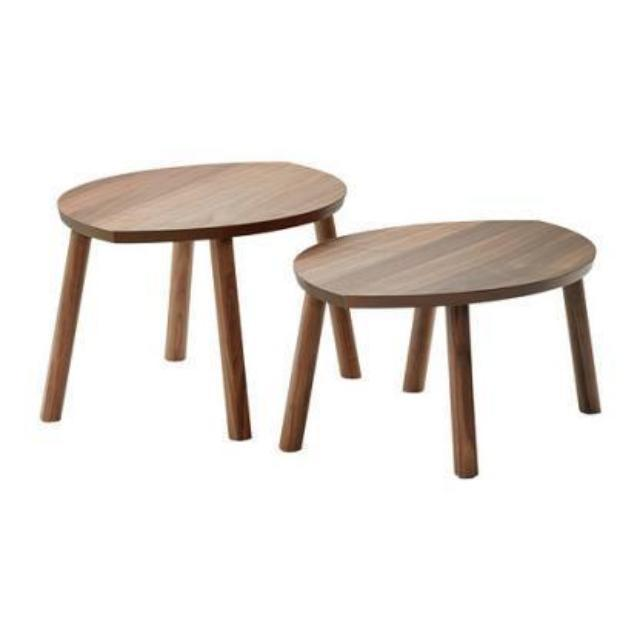table: (43, 167, 345, 435), (282, 222, 598, 478)
